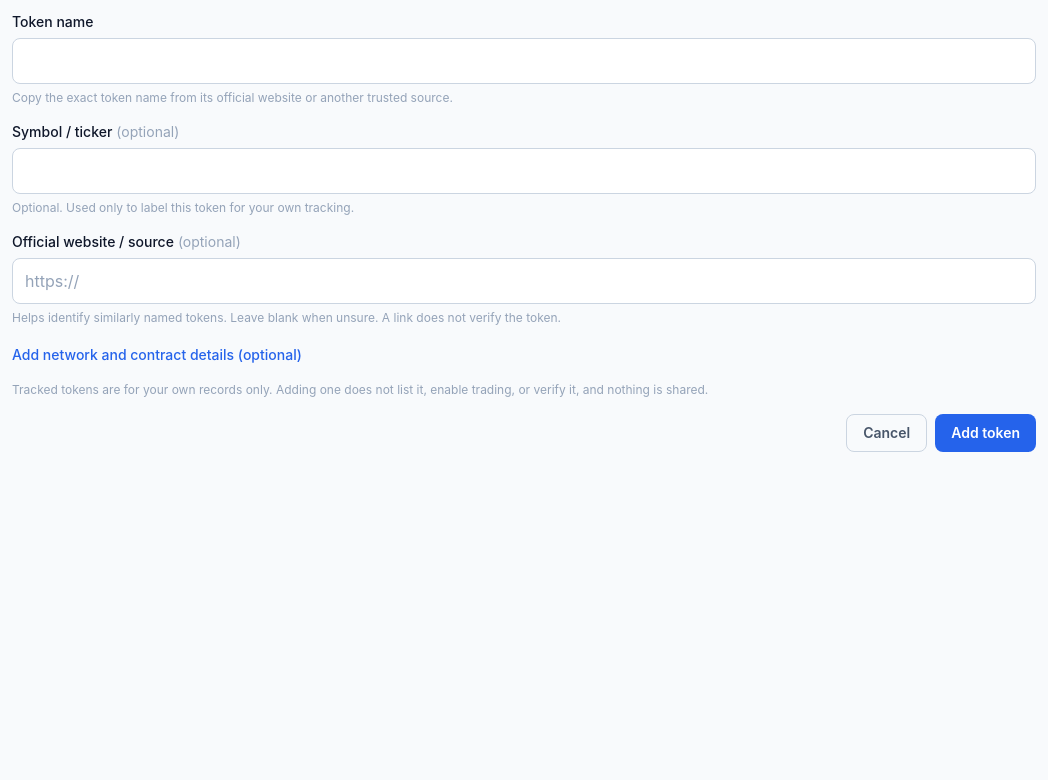
Test: CustomTokenForm › network/contract details are disclosed progressively
Check: the field labelled "Contract address" is not shown
Click the button "Add network and contract details (optional)" at [157, 355], box [12, 345, 302, 365]
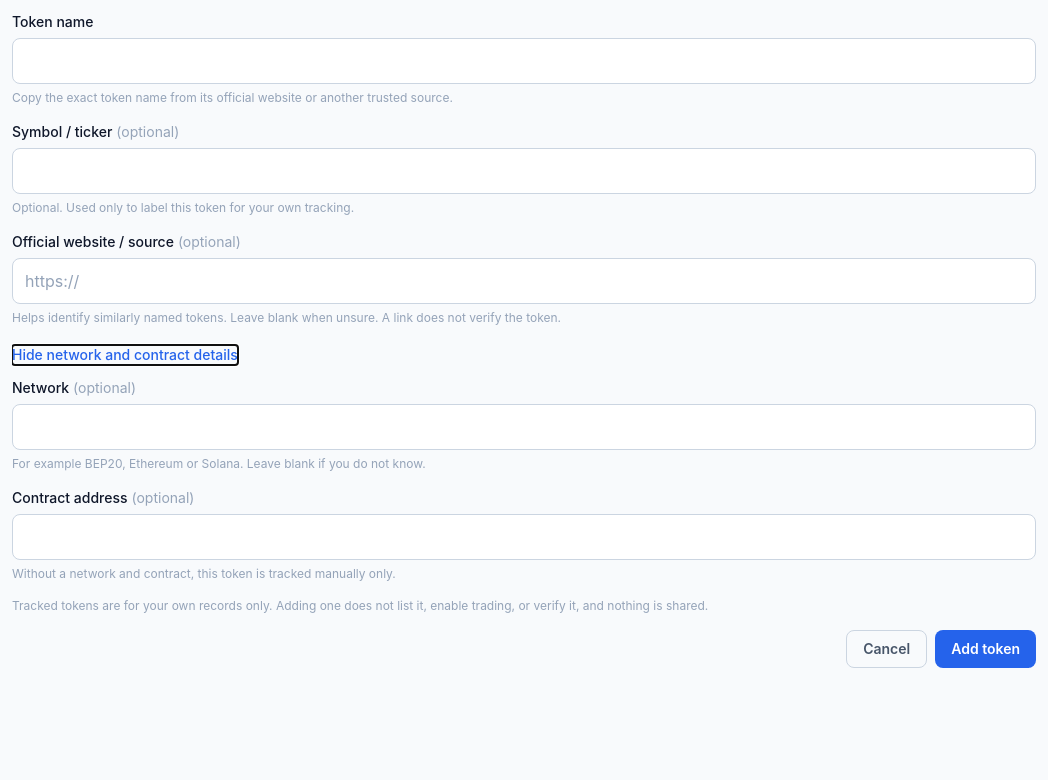
Check: the field labelled "Contract address(optional)" is shown, box [12, 514, 1036, 560]
